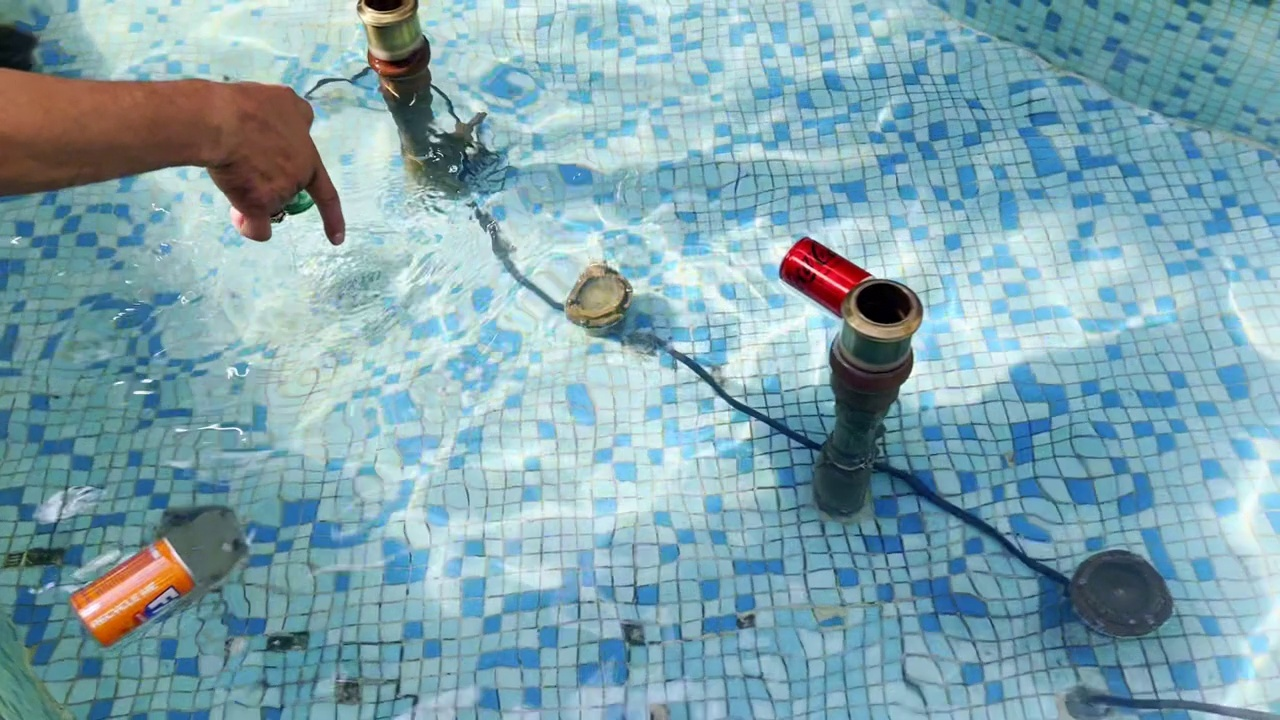debris: (52, 540, 203, 643), (771, 222, 883, 323)
